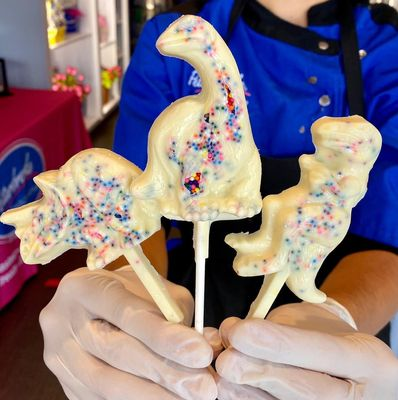pizza: (114, 2, 397, 285), (132, 0, 397, 198)
